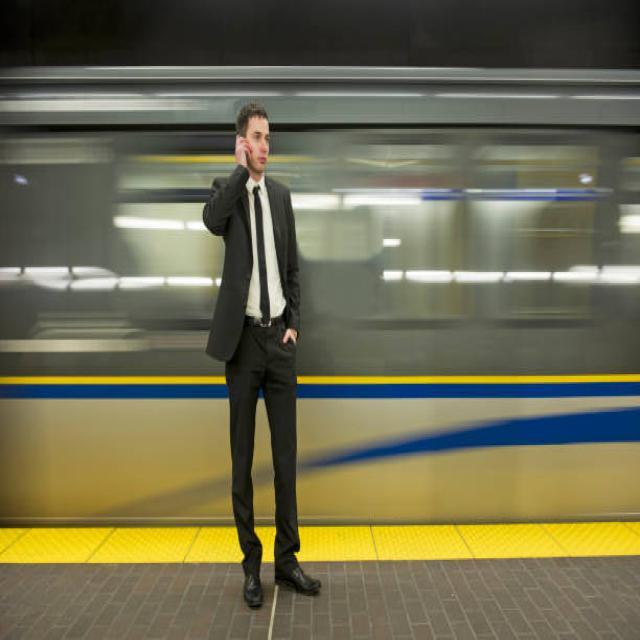stand: (208, 91, 334, 611)
